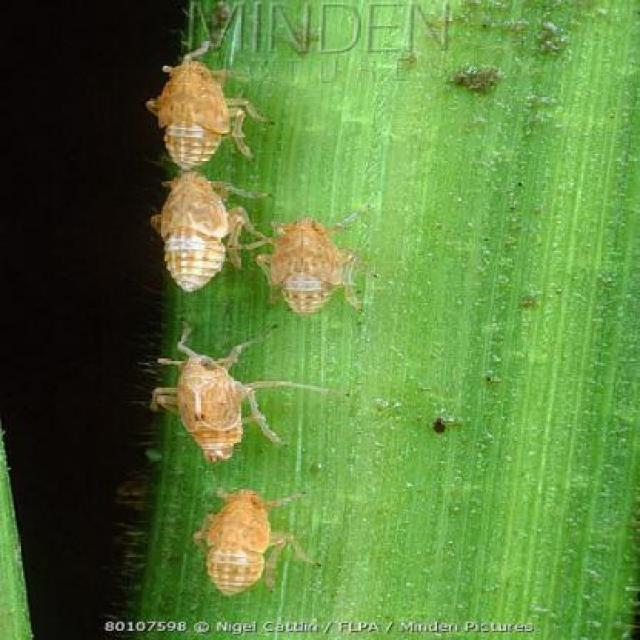brown-planthopper: (151, 60, 264, 171), (159, 344, 263, 461), (195, 486, 283, 600), (258, 215, 354, 316), (154, 174, 232, 294)
